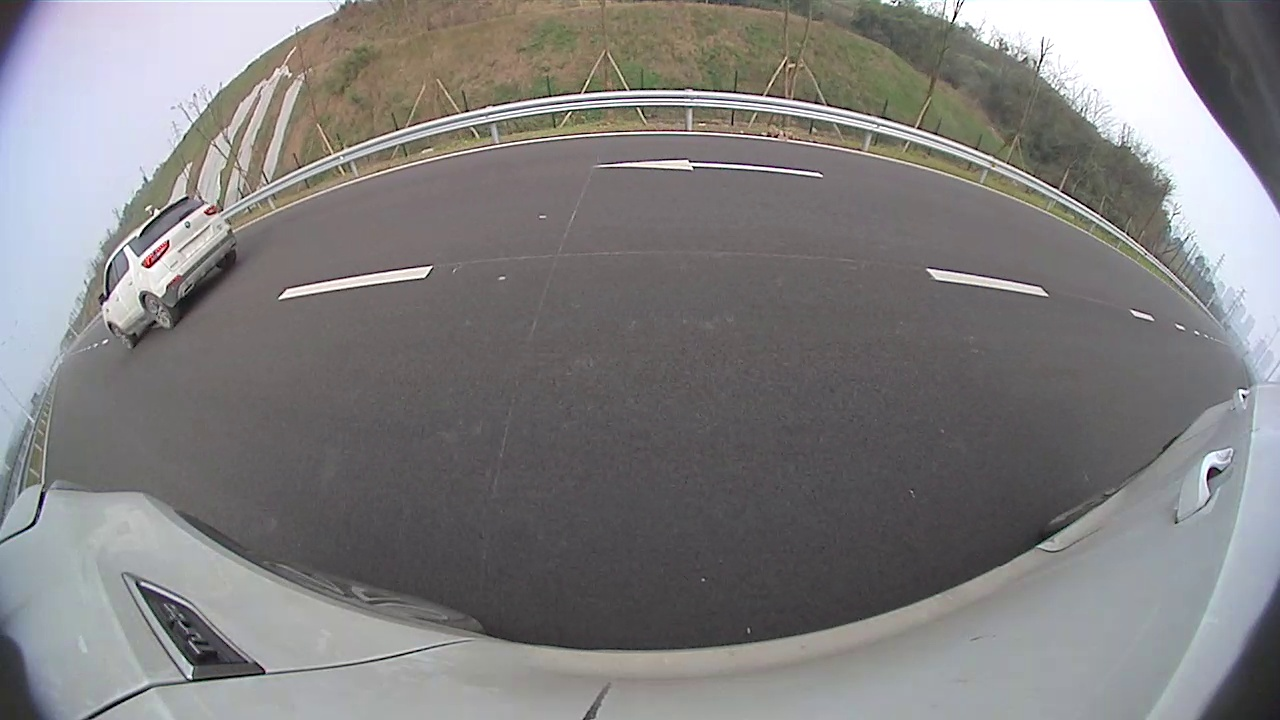car: (98, 194, 237, 348)
front: (111, 324, 135, 350)
rear: (145, 292, 177, 328)
